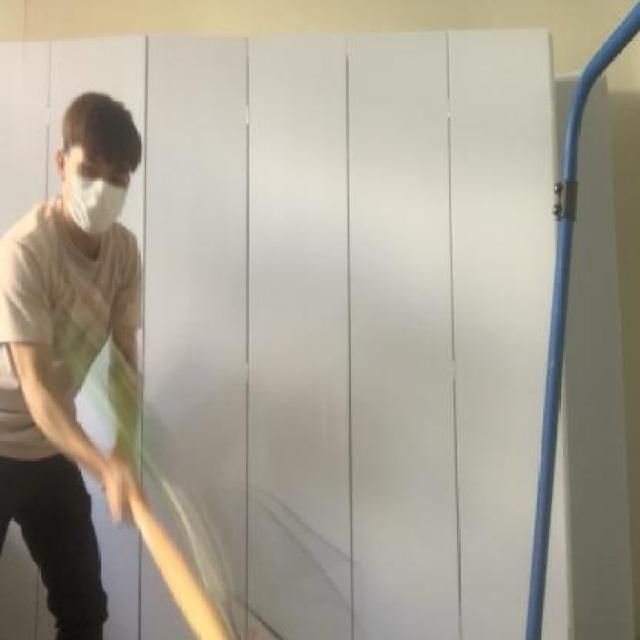baseball: (49, 300, 169, 483)
